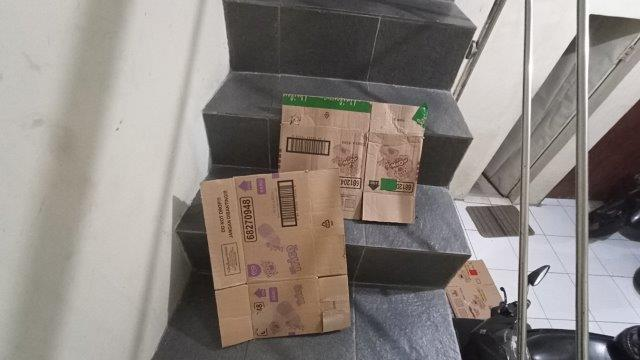kardus: (203, 170, 350, 346), (280, 96, 423, 222), (447, 261, 503, 317)
